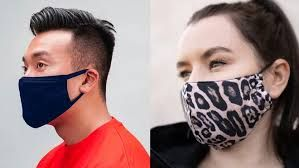with-mask: (170, 12, 291, 156), (11, 24, 111, 131)
